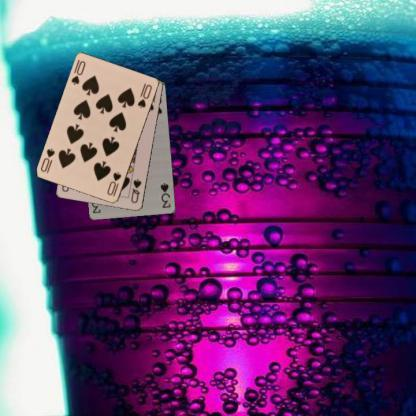10s: (104, 169, 122, 198), (68, 58, 86, 86)
3s: (157, 180, 172, 209)
Qs: (128, 176, 143, 205)
